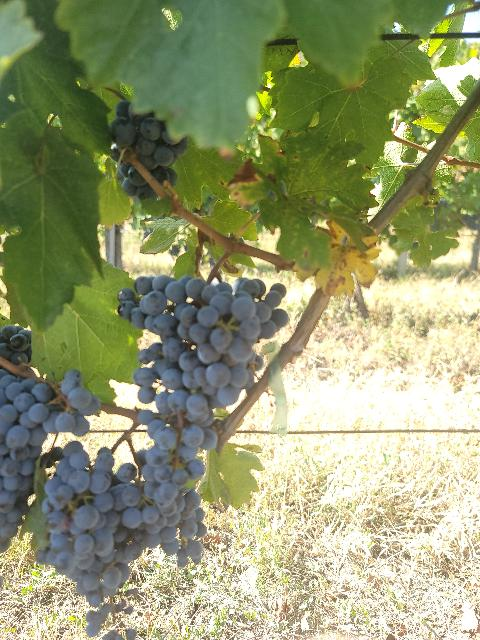grapes: (118, 275, 289, 479), (0, 325, 100, 551), (42, 441, 162, 608), (122, 446, 206, 566)
